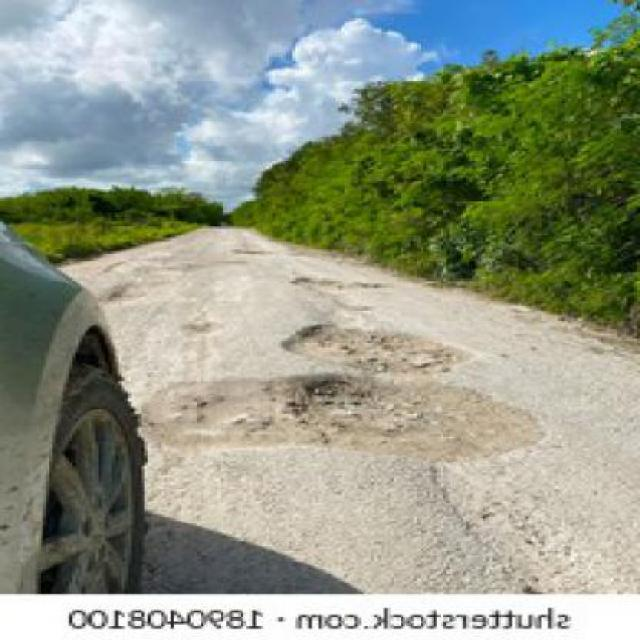pothole: (130, 311, 532, 471), (285, 267, 398, 293), (230, 244, 282, 256)
